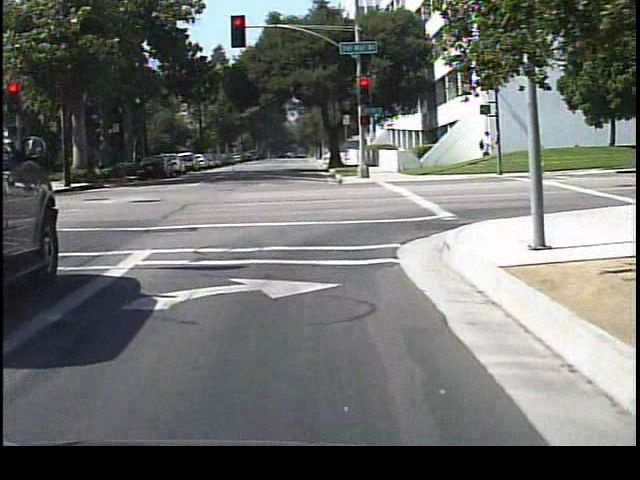person: (473, 128, 496, 171)
